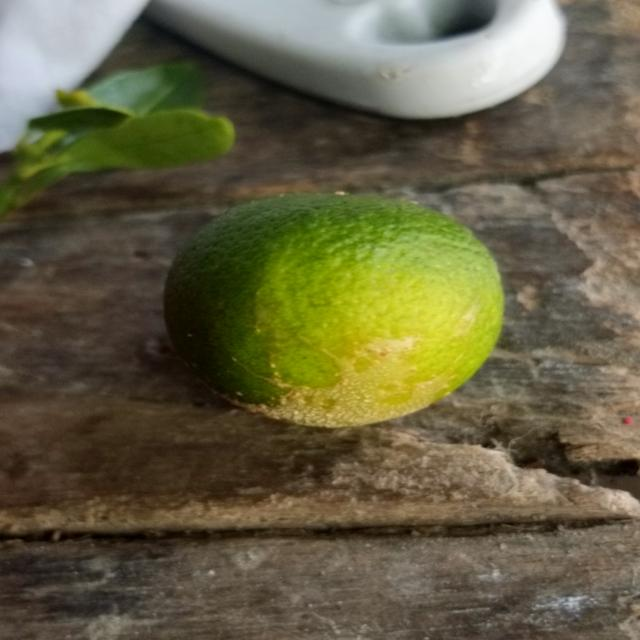thrips: (161, 191, 508, 435)
